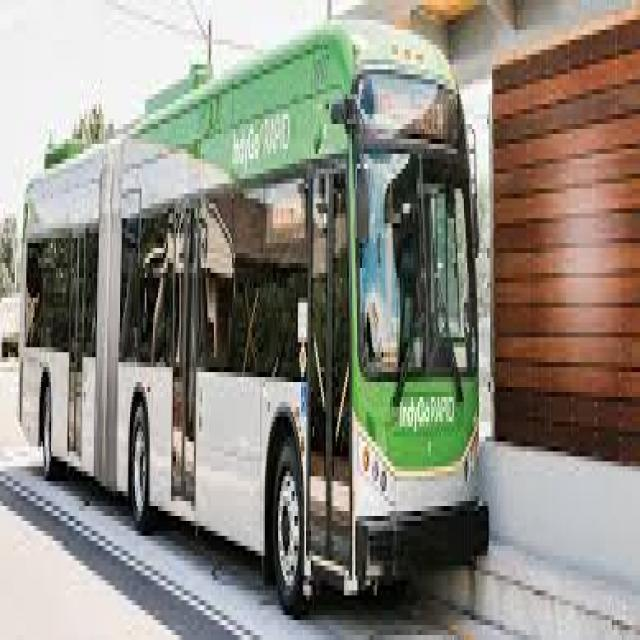Bus: (25, 38, 484, 489)
